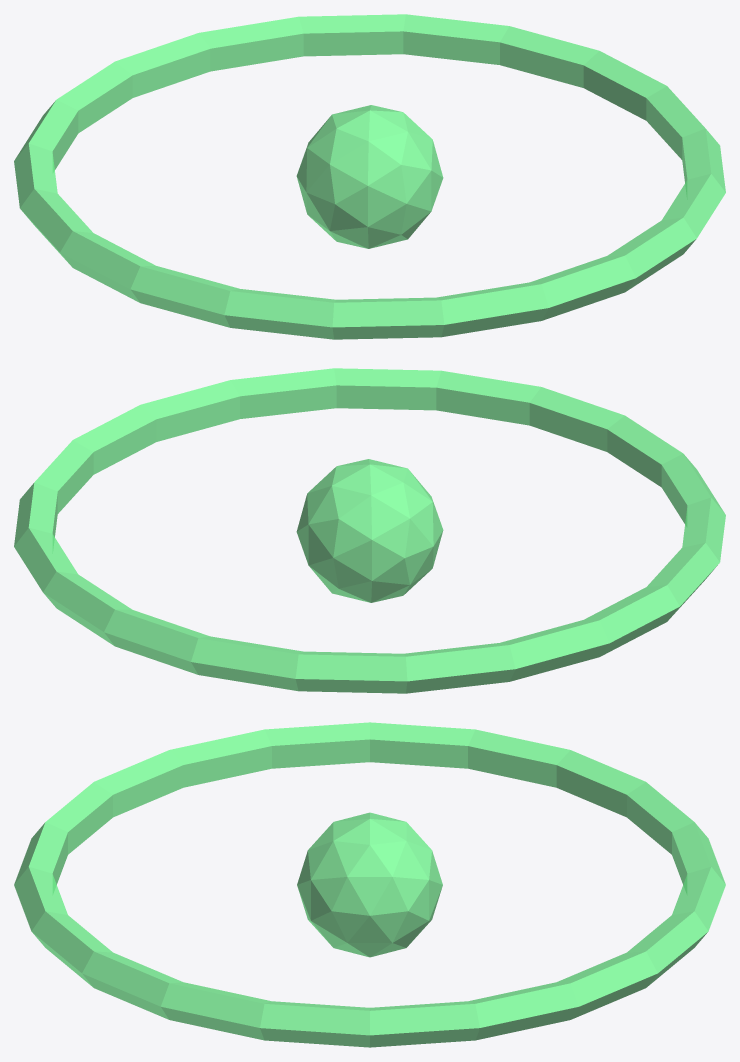
Rendered from ally_assist_marker.glb.
3 views of the same model, one above another, from view 1: azimuth 30°, elevation 25°; view 2: azimuth 150°, elevation 25°; view 3: azimuth 270°, elevation 25° (orthographic).
Parts seen in each view (by area): view 1: outline_ring, marker_core; view 2: outline_ring, marker_core; view 3: outline_ring, marker_core.
Part boxes in pixels (left/top/right/bottom): outline_ring: left=14, top=14, right=725, bottom=339; marker_core: left=296, top=105, right=443, bottom=248; outline_ring: left=14, top=368, right=725, bottom=693; marker_core: left=296, top=459, right=443, bottom=602; outline_ring: left=14, top=722, right=725, bottom=1047; marker_core: left=297, top=812, right=442, bottom=957.
Size of the model in its own units: 1.17 by 0.24 by 1.17.
